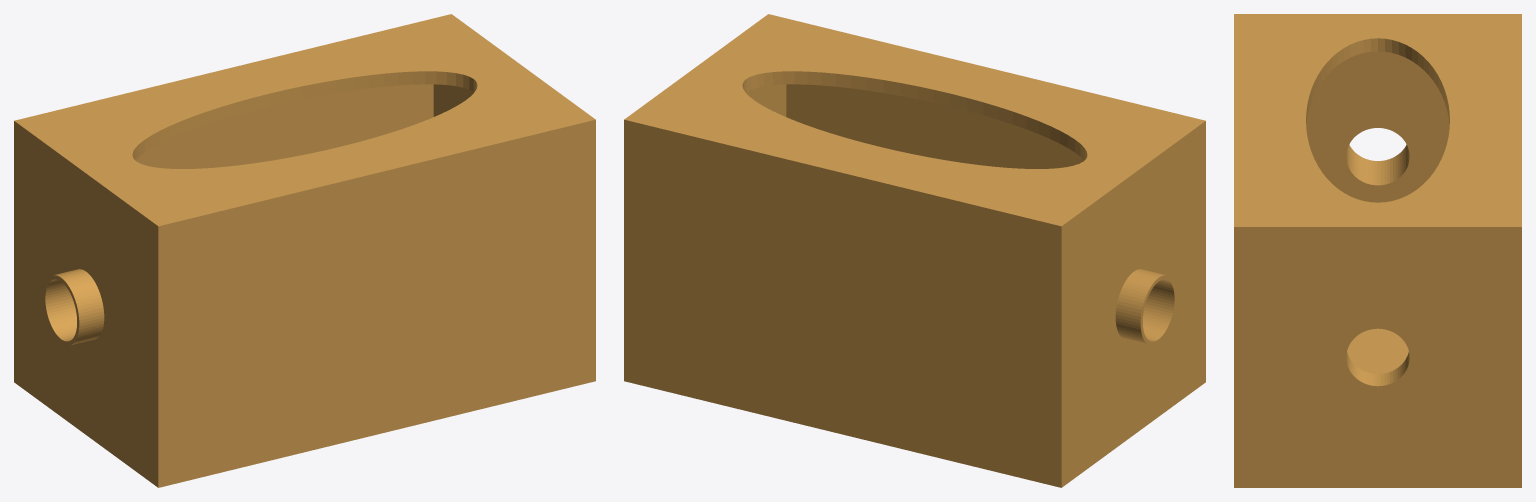
Rendered from Câmara descontaminação do ar - COVID-19.glb.
The picture shows the model from 3 angles, left to right: view 1: azimuth 30°, elevation 25°; view 2: azimuth 150°, elevation 25°; view 3: azimuth 270°, elevation 25°; orthographic projection.
Visible parts, largest first — view 1: Mesh_Mesh_head_geo.001_lambert2SG.001; view 2: Mesh_Mesh_head_geo.001_lambert2SG.001; view 3: Mesh_Mesh_head_geo.001_lambert2SG.001.
Boxes of the visible parts, <box> form: Mesh_Mesh_head_geo.001_lambert2SG.001: <box>14,14,595,487</box>; Mesh_Mesh_head_geo.001_lambert2SG.001: <box>624,14,1205,487</box>; Mesh_Mesh_head_geo.001_lambert2SG.001: <box>1234,14,1521,487</box>.
Size of the model in its own units: 185 by 100 by 100.
